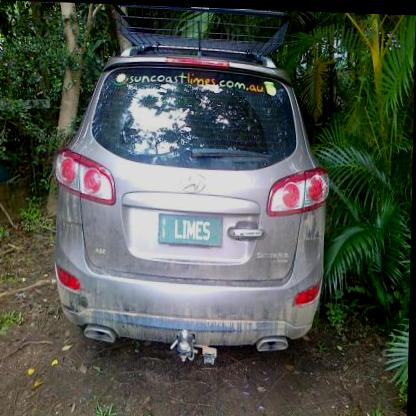License_Plate: (159, 214, 223, 245)
